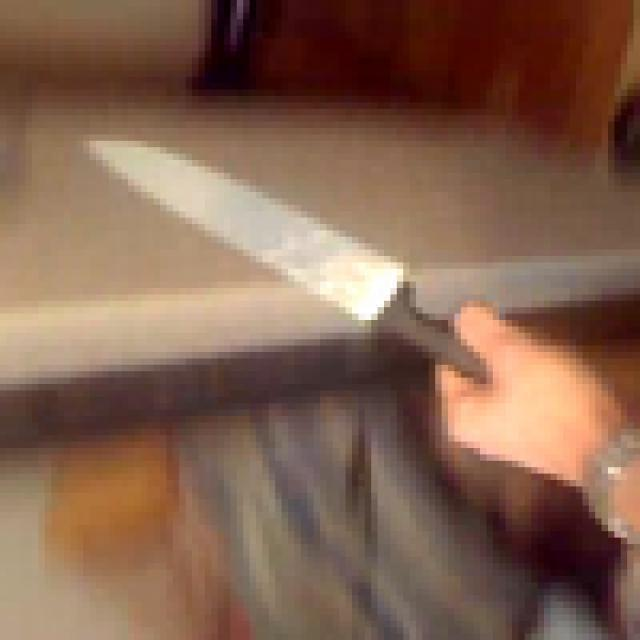Knife: (64, 114, 531, 442)
